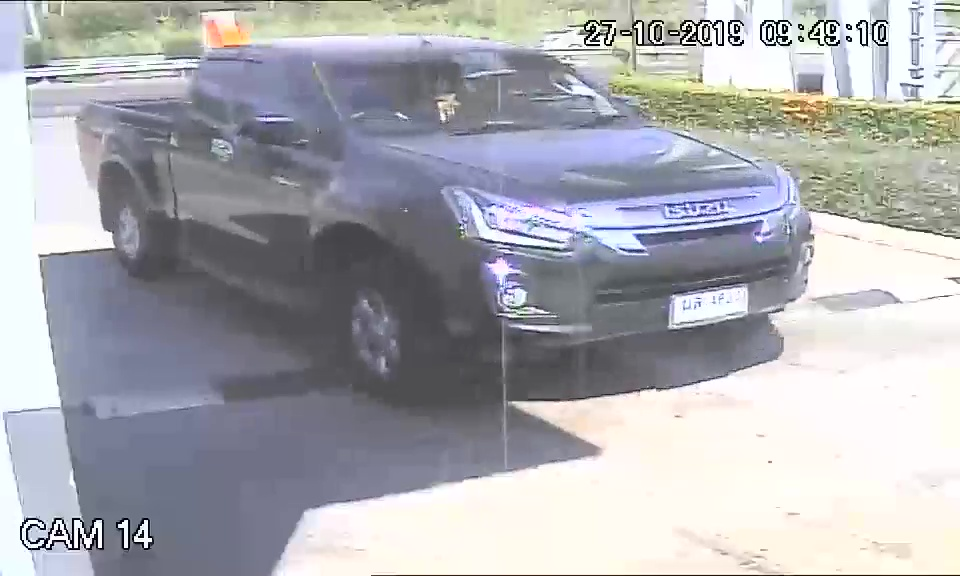pickup: (72, 31, 822, 409)
